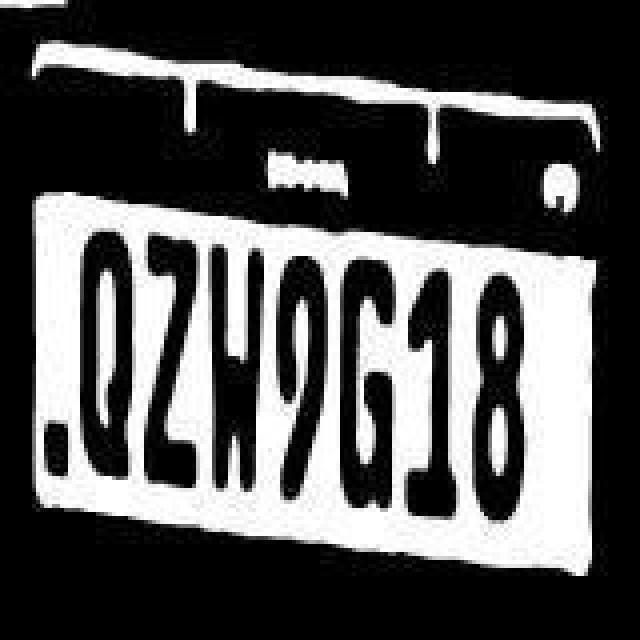1: (404, 262, 460, 522)
8: (472, 274, 528, 526)
9: (276, 252, 332, 500)
G: (336, 252, 400, 516)
Q: (76, 230, 132, 482)
W: (210, 244, 270, 492)
Z: (138, 230, 198, 490)
